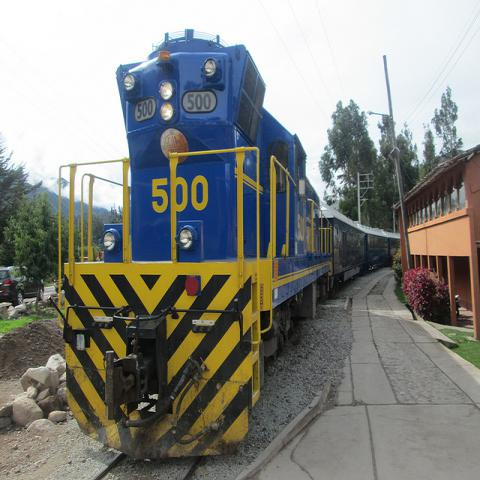car: (0, 264, 45, 305)
truck: (0, 266, 45, 306)
